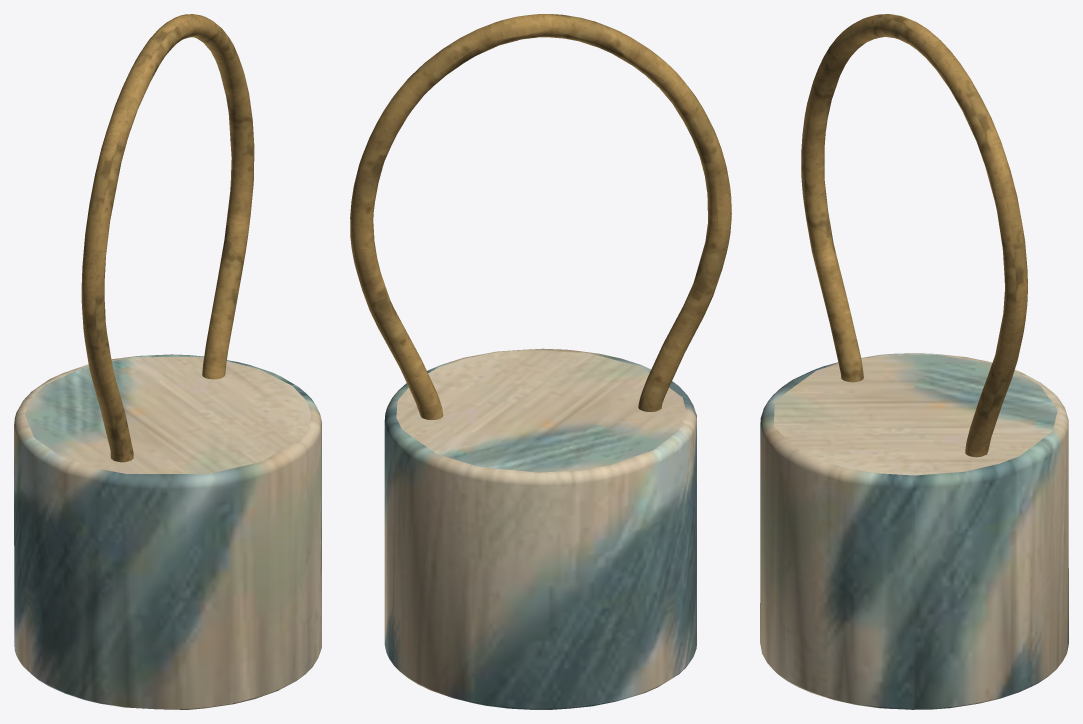
The model's file is Medenka_05_Oblouk_bila.glb.
The picture shows the model from 3 angles, left to right: view 1: azimuth 30°, elevation 25°; view 2: azimuth 150°, elevation 25°; view 3: azimuth 270°, elevation 25°; orthographic projection.
Visible parts, largest first — view 1: Telo, Oblouk; view 2: Telo, Oblouk; view 3: Telo, Oblouk.
Part boxes in pixels (x1,y1,x2,y2): Telo: (14,354,321,709); Oblouk: (81,14,254,462); Telo: (384,348,696,709); Oblouk: (350,14,731,419); Telo: (760,353,1068,709); Oblouk: (801,14,1027,457).
Bounding box in the file's own units: 0.0407 × 0.0889 × 0.04.
2 materials, 2 textured.
